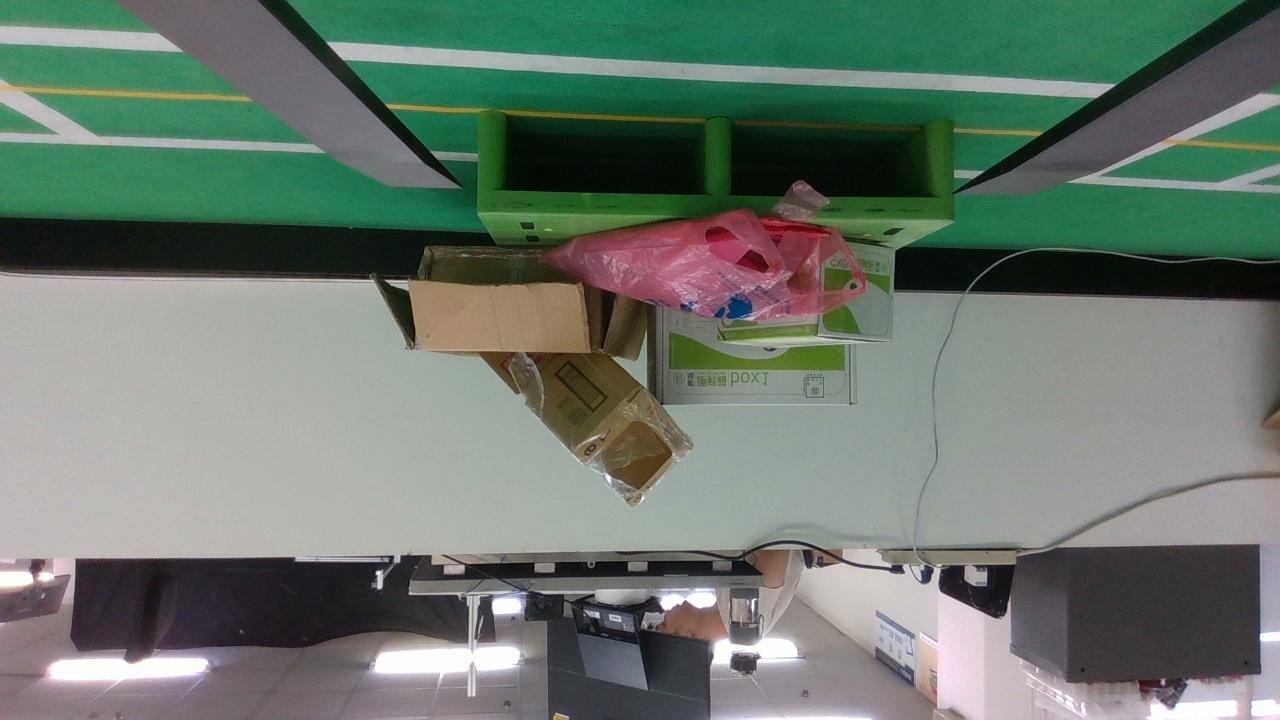Pallet: (475, 111, 955, 221)
